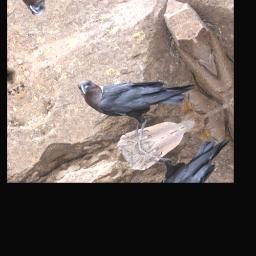Crow: (75, 37, 213, 159)
